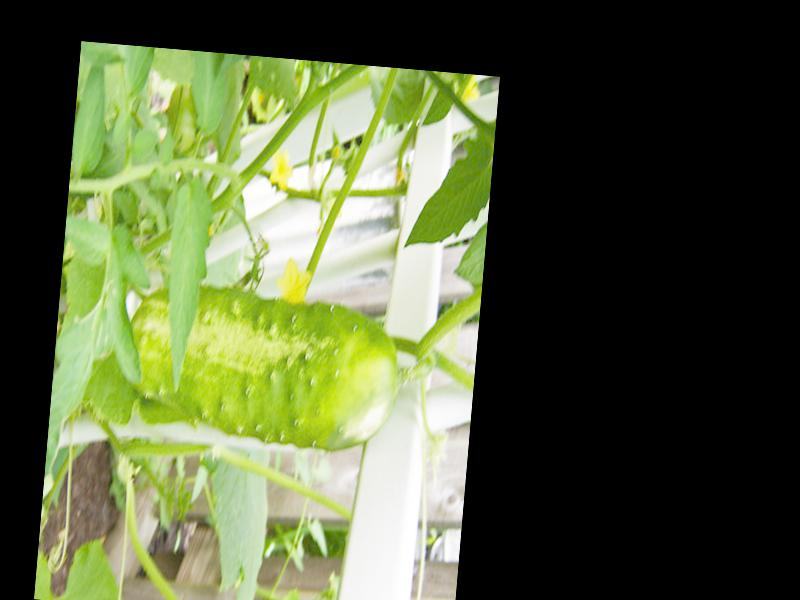Cucumber: (124, 286, 404, 454)
